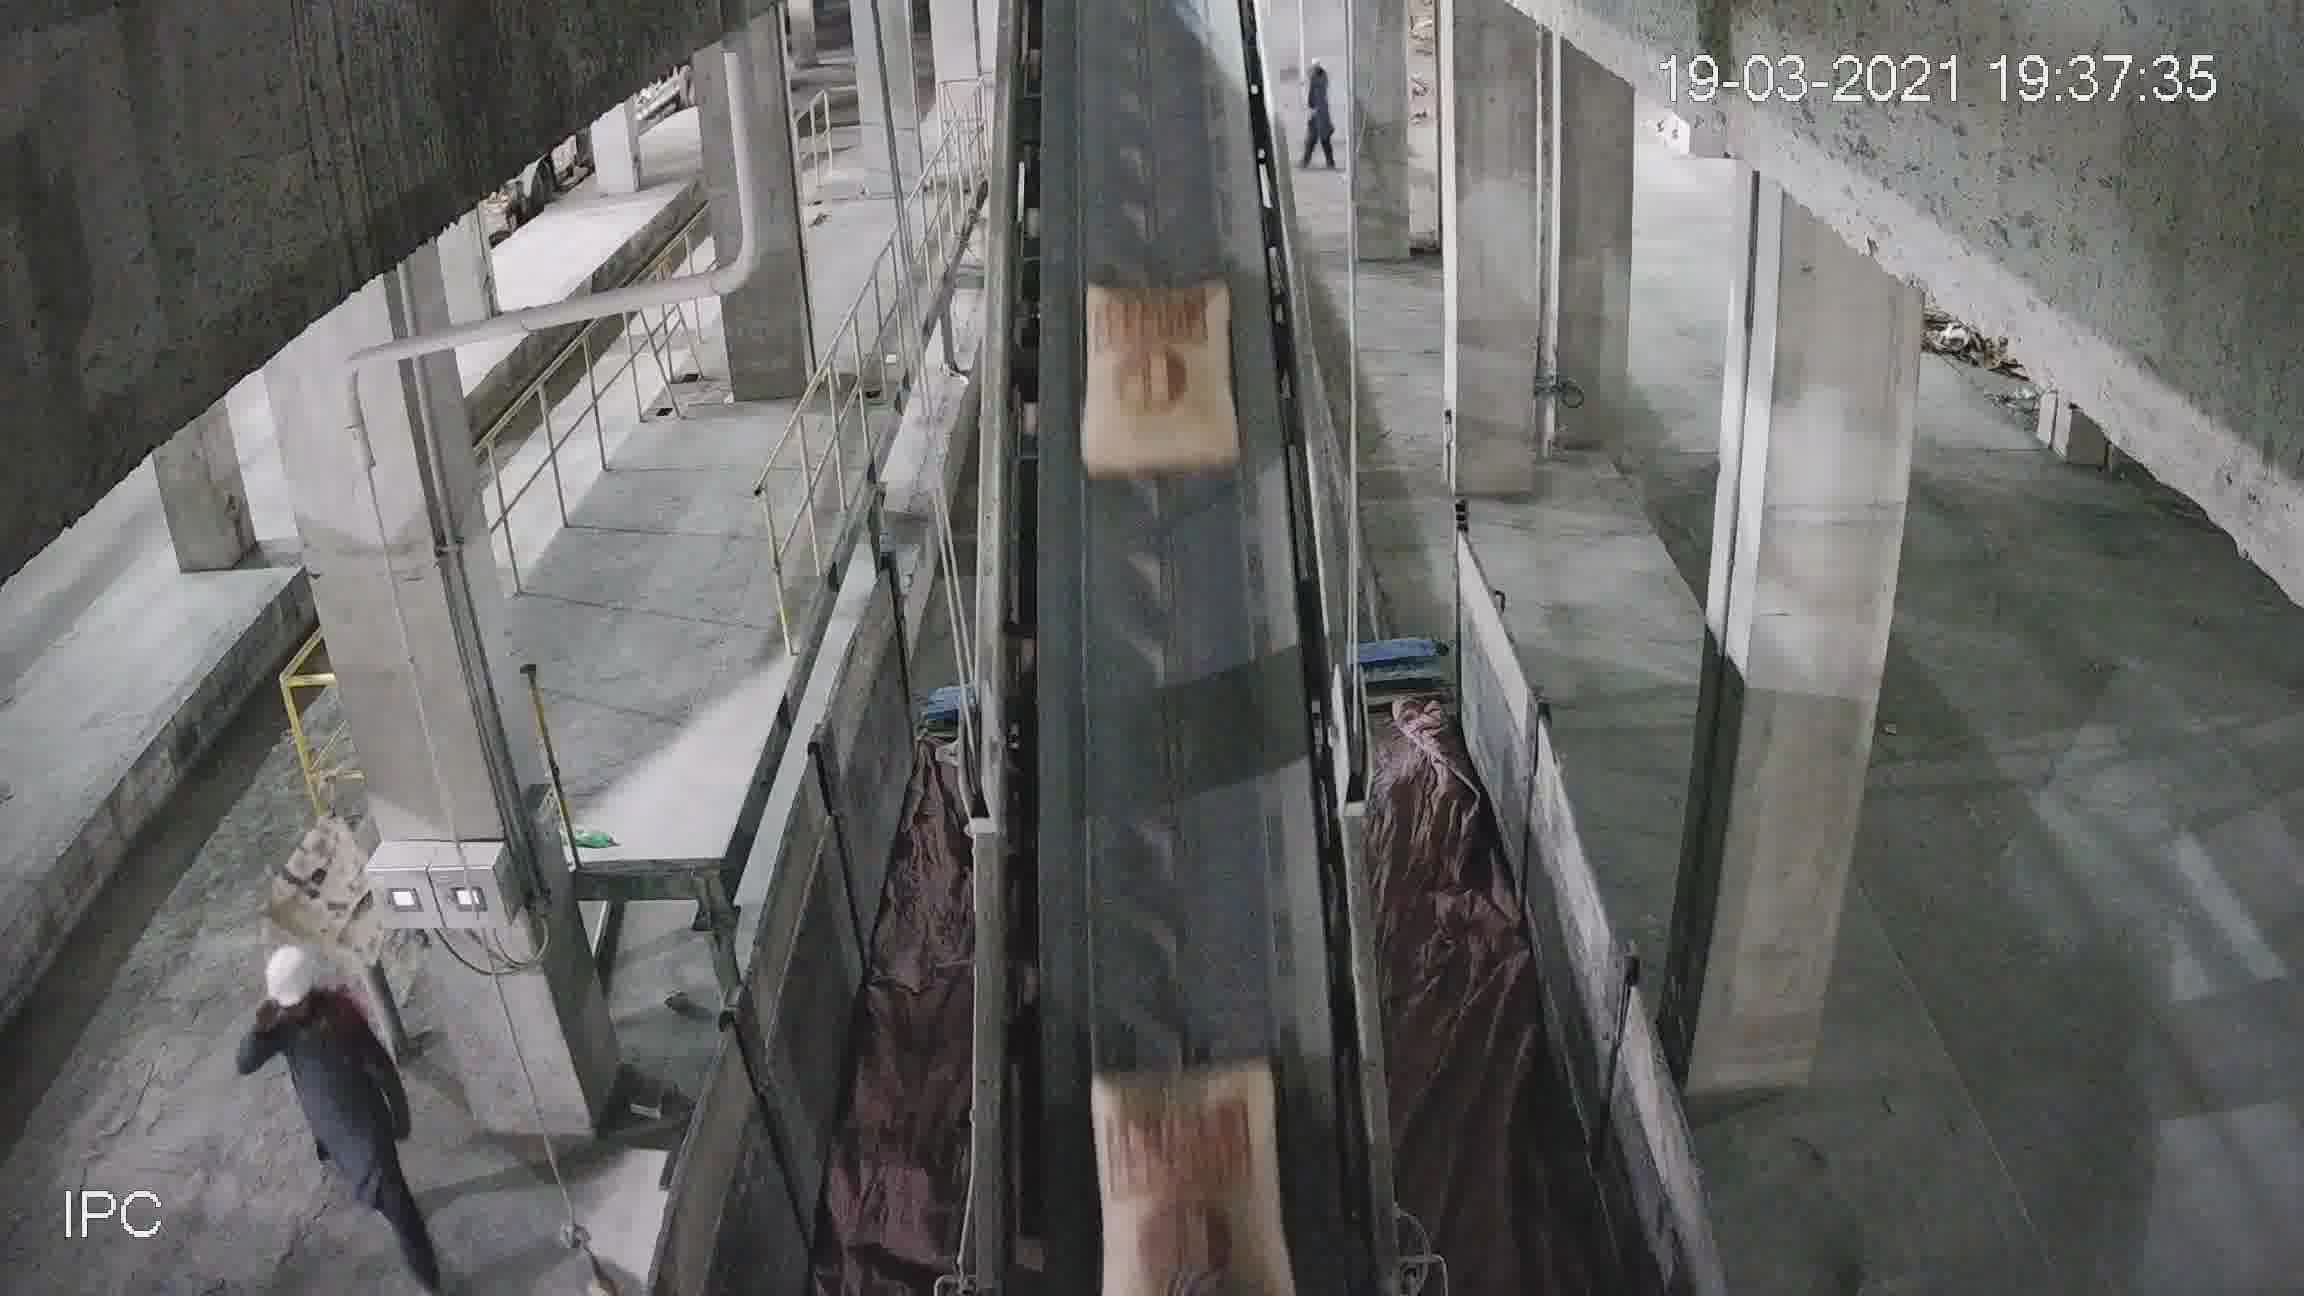bag: (1081, 285, 1236, 475), (1093, 1059, 1279, 1196)
belt: (987, 51, 1342, 1079)
